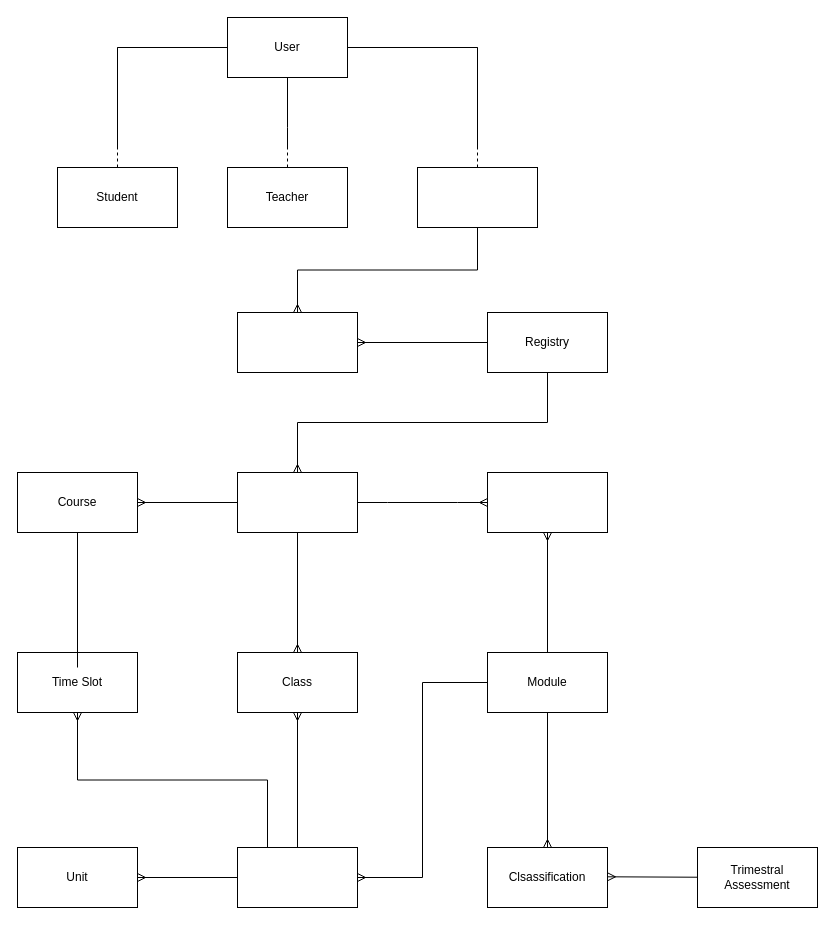
Image size: 835x925. Some labels were removed from this diagram. The shapes that lost their labels are listed below. From the top down, each one's centre as x and y in pixels, then its label:
point 477,197: Secretary
point 297,342: Building
point 297,502: Enrollment
point 547,502: EnrMod
point 297,877: StudyPlan
